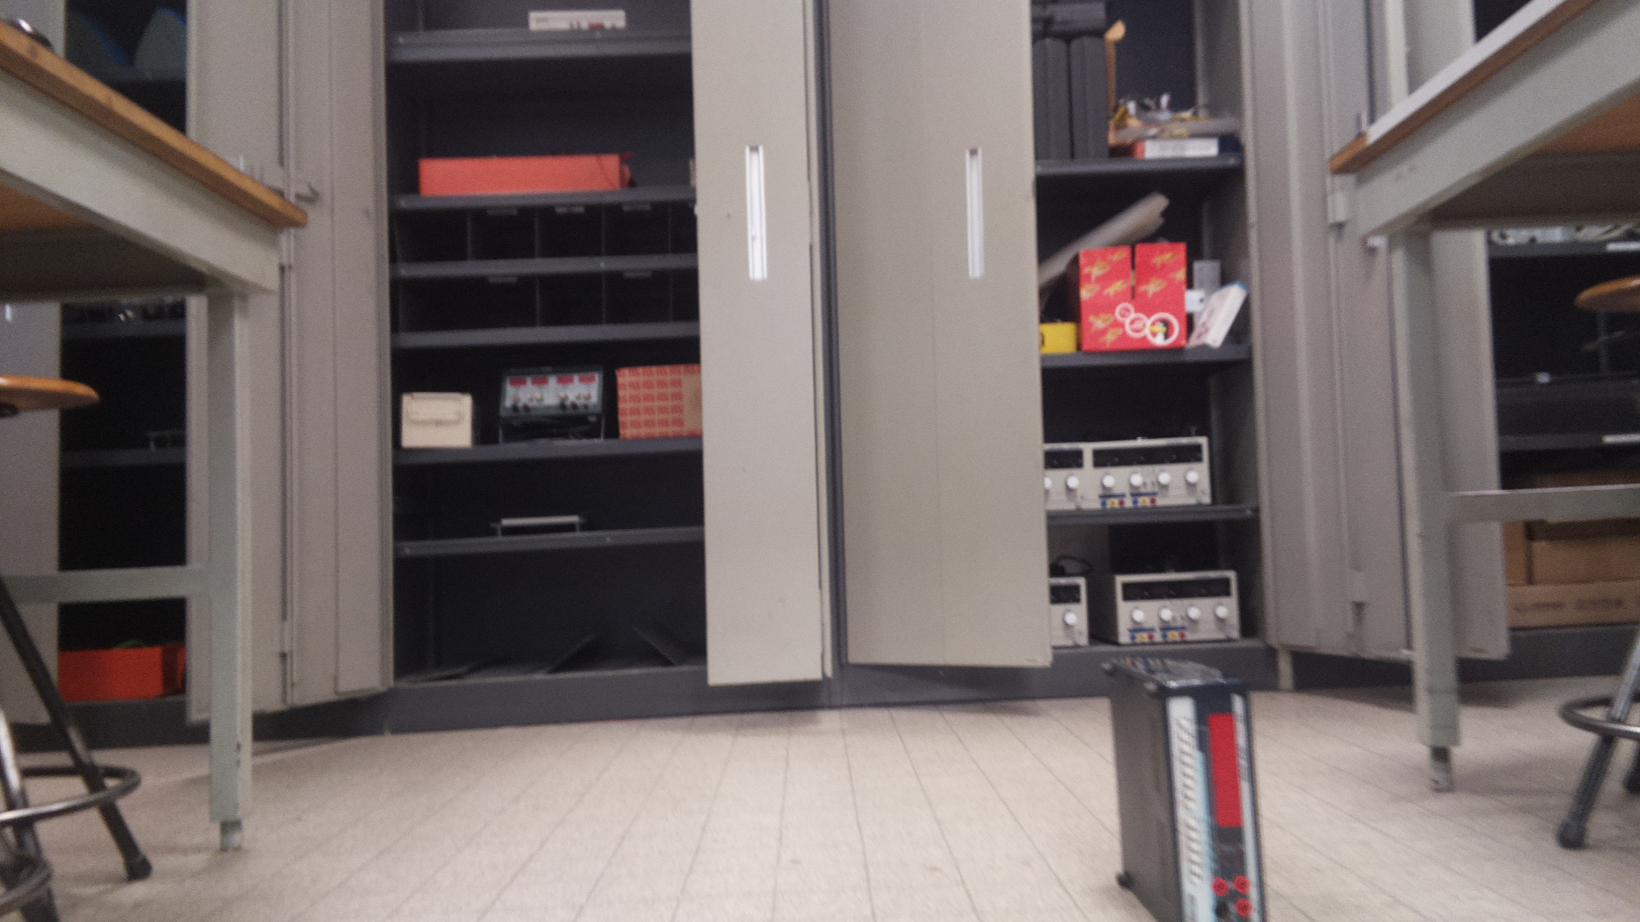medium: (1087, 652, 1268, 922)
